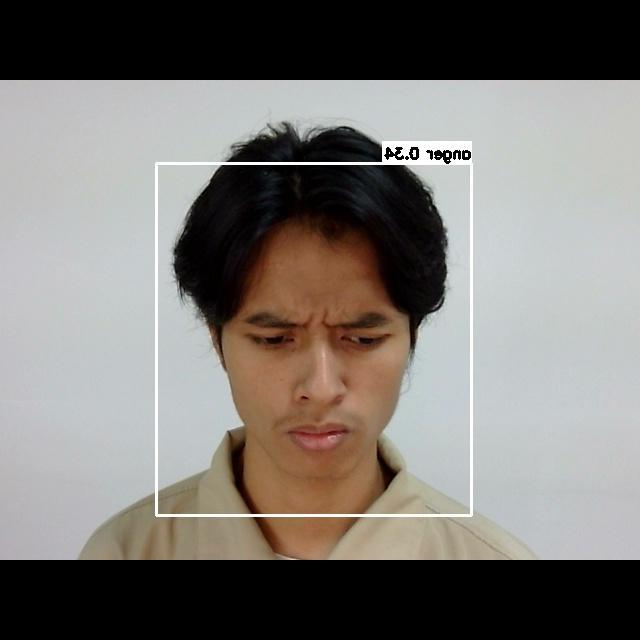Angry: (222, 279, 422, 455)
